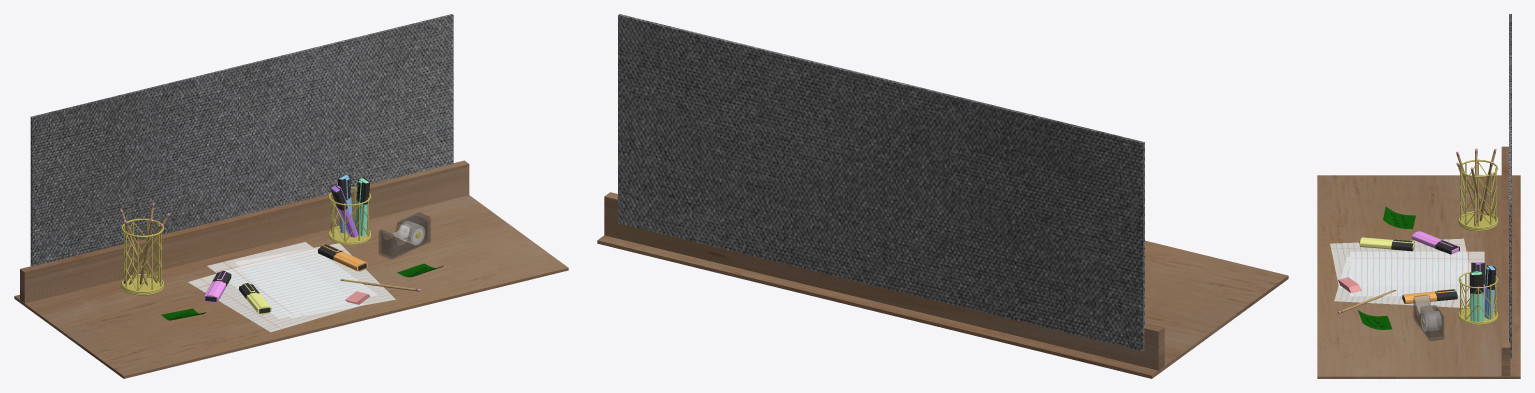
Rendered from my_desk_c.glb.
3 renders of one model, left to right at view 1: azimuth 30°, elevation 25°; view 2: azimuth 150°, elevation 25°; view 3: azimuth 270°, elevation 25°, orthographic. The views are drawn at different scales.
Parts seen in each view (by area): view 1: desk_back, desk_base, desk_base1, pPlane1, pPlane3, pPlane2, pTorus6 (×2), pCube16, loftedSurface14, loftedSurface15, loftedSurface18, pCylinder18; view 2: desk_back, desk_base, desk_base1; view 3: desk_base, pPlane1, pPlane3, pPlane2, pTorus6 (×2), desk_base1, pCube16, desk_back, loftedSurface14, loftedSurface11, loftedSurface15, pPlane5 (+8 smaller).
Part boxes in pixels (bbox=[...]): desk_back: bbox=[30, 14, 453, 266]; desk_base: bbox=[14, 195, 568, 378]; desk_base1: bbox=[20, 160, 469, 303]; pPlane1: bbox=[207, 242, 377, 318]; pPlane3: bbox=[235, 243, 395, 318]; pPlane2: bbox=[188, 267, 362, 332]; pTorus6 (×2): bbox=[121, 187, 371, 295]; pCube16: bbox=[379, 212, 430, 258]; loftedSurface14: bbox=[355, 178, 369, 236]; loftedSurface15: bbox=[318, 245, 367, 271]; loftedSurface18: bbox=[330, 185, 358, 237]; pCylinder18: bbox=[398, 221, 424, 245]; desk_back: bbox=[618, 14, 1144, 351]; desk_base: bbox=[597, 235, 1288, 378]; desk_base1: bbox=[604, 192, 1164, 370]; desk_base: bbox=[1317, 175, 1520, 378]; pPlane1: bbox=[1350, 251, 1484, 296]; pPlane3: bbox=[1334, 257, 1470, 307]; pPlane2: bbox=[1330, 238, 1468, 287]; pTorus6 (×2): bbox=[1458, 159, 1498, 324]; desk_base1: bbox=[1501, 146, 1510, 376]; pCube16: bbox=[1413, 295, 1443, 340]; desk_back: bbox=[1509, 14, 1511, 358]; loftedSurface14: bbox=[1469, 271, 1484, 321]; loftedSurface11: bbox=[1359, 237, 1414, 251]; loftedSurface15: bbox=[1402, 291, 1457, 303]; pPlane5: bbox=[1383, 206, 1415, 229].
Size of the model in its own units: 1.76 by 0.6884 by 0.7495.
Materials: 21 (6 with a texture image).
